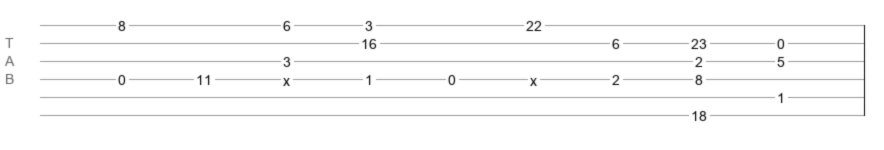0: (118, 72, 126, 82), (448, 72, 456, 82), (777, 36, 785, 46)
1: (365, 72, 373, 82), (777, 90, 785, 100)
11: (196, 72, 212, 82)
16: (361, 36, 377, 46)
18: (691, 108, 707, 118)
2: (612, 72, 620, 82), (695, 54, 703, 64)
22: (526, 18, 542, 28)
23: (691, 36, 707, 46)
3: (283, 54, 291, 64), (365, 18, 373, 28)
5: (777, 54, 785, 64)
6: (283, 18, 291, 28), (612, 36, 620, 46)
8: (118, 18, 126, 28), (695, 72, 703, 82)
x: (283, 73, 290, 81), (530, 73, 537, 81)
